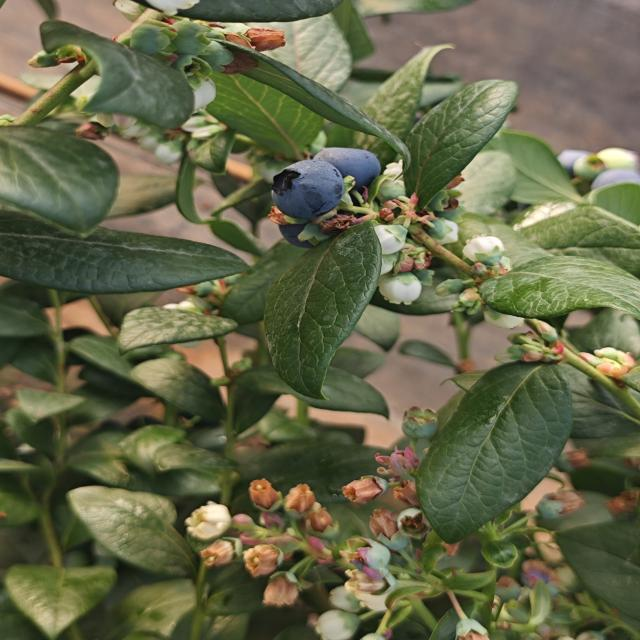ripe: (267, 157, 347, 223), (309, 146, 383, 194)
